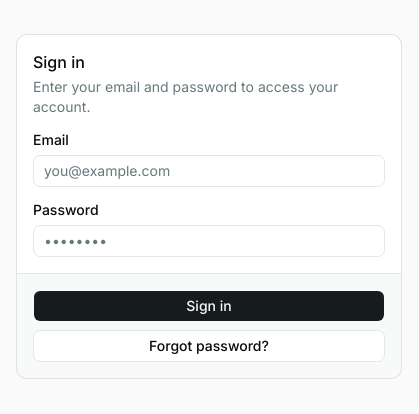
Scenario: Login page › clears the error when the user starts typing again
Type "bad@example.com" into the field labelled "Email" at (209, 170), box [33, 154, 385, 186]
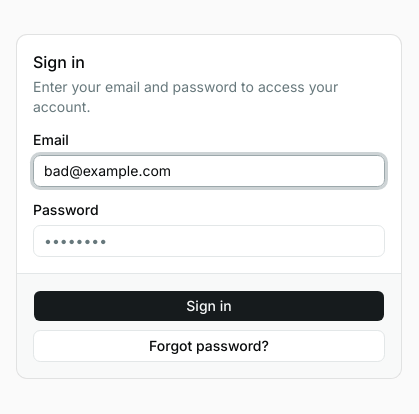
Type "wrong" into the password field labelled "Password" at (209, 240), box [33, 224, 385, 256]
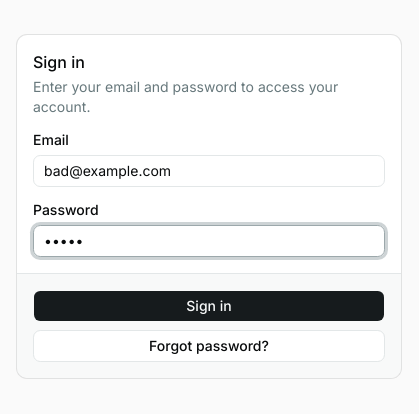
Click the button "Sign in" at (209, 306), box [33, 290, 385, 322]
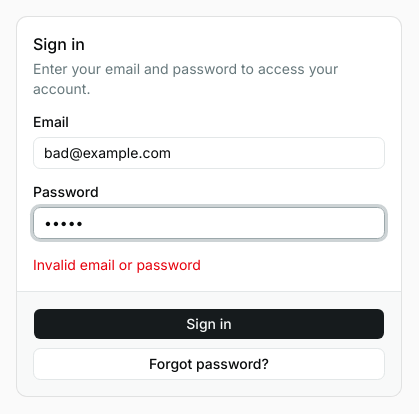
Check: the text "Invalid email or password" is shown, box [33, 256, 201, 272]
Typing should clear the error
Type "x" into the field labelled "Email" at (209, 152), box [33, 136, 385, 168]
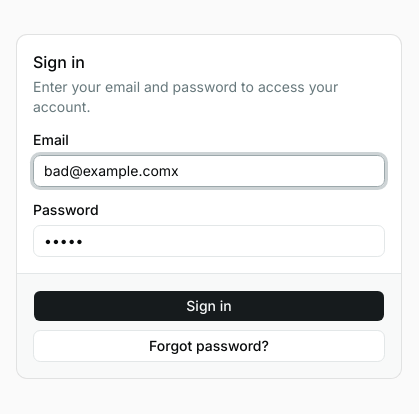
Check: the text "Invalid email or password" is gone
